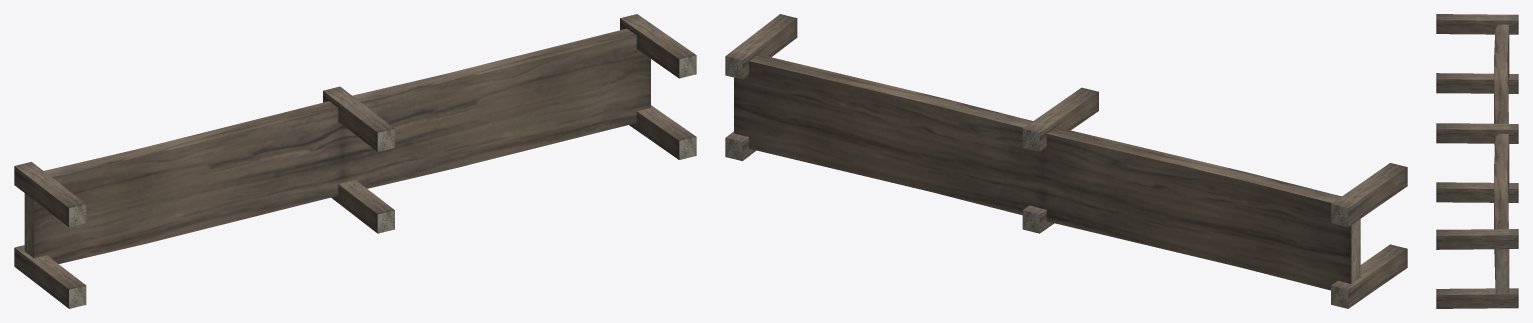
Rendered from Counter_Type_02_A.fbx.
3 renders of one model, left to right at view 1: azimuth 30°, elevation 25°; view 2: azimuth 150°, elevation 25°; view 3: azimuth 270°, elevation 25°, orthographic. The views are drawn at different scales.
Visible parts, largest first — view 1: Counter_Type_02_A; view 2: Counter_Type_02_A; view 3: Counter_Type_02_A.
Boxes of the visible parts, x1,y1,x2,y2 form: Counter_Type_02_A: (14,14,696,308); Counter_Type_02_A: (725,14,1407,308); Counter_Type_02_A: (1436,14,1518,308).
Size of the model in its own units: 6.64 by 1.02 by 1.04.
